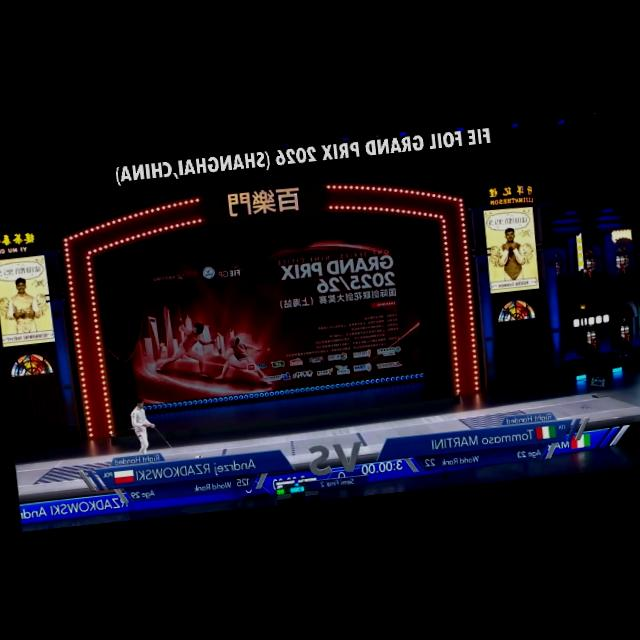blade: (150, 420, 174, 454)
